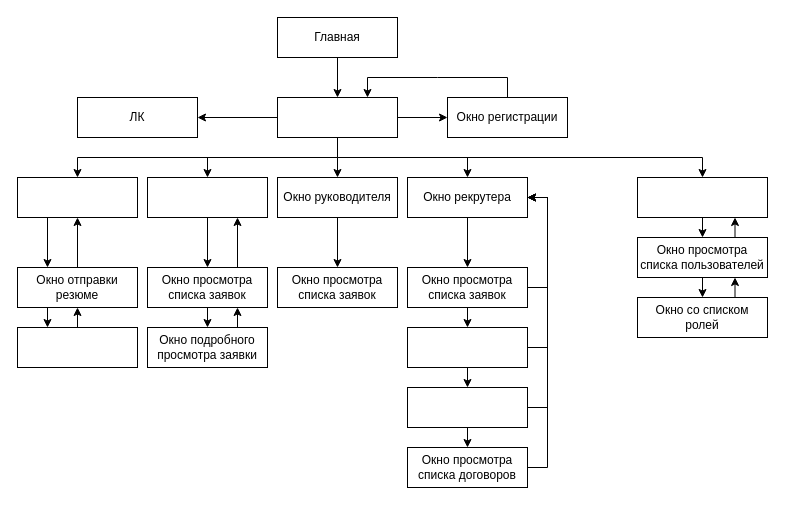
Image size: 785x505. Some labels were removed from this diagram. Here are the shapes that lost their labels. From the top down, the box of each, then its label:
(276, 96, 398, 138): Окно авторизации
(16, 176, 138, 218): Окно соискателя
(146, 176, 268, 218): Окно директора
(636, 176, 768, 218): Окно администратора
(16, 326, 138, 368): Окно подробного просмотра вакансии
(406, 326, 528, 368): Окно просмотра списка резюме
(406, 386, 528, 428): Окно оформления договора
